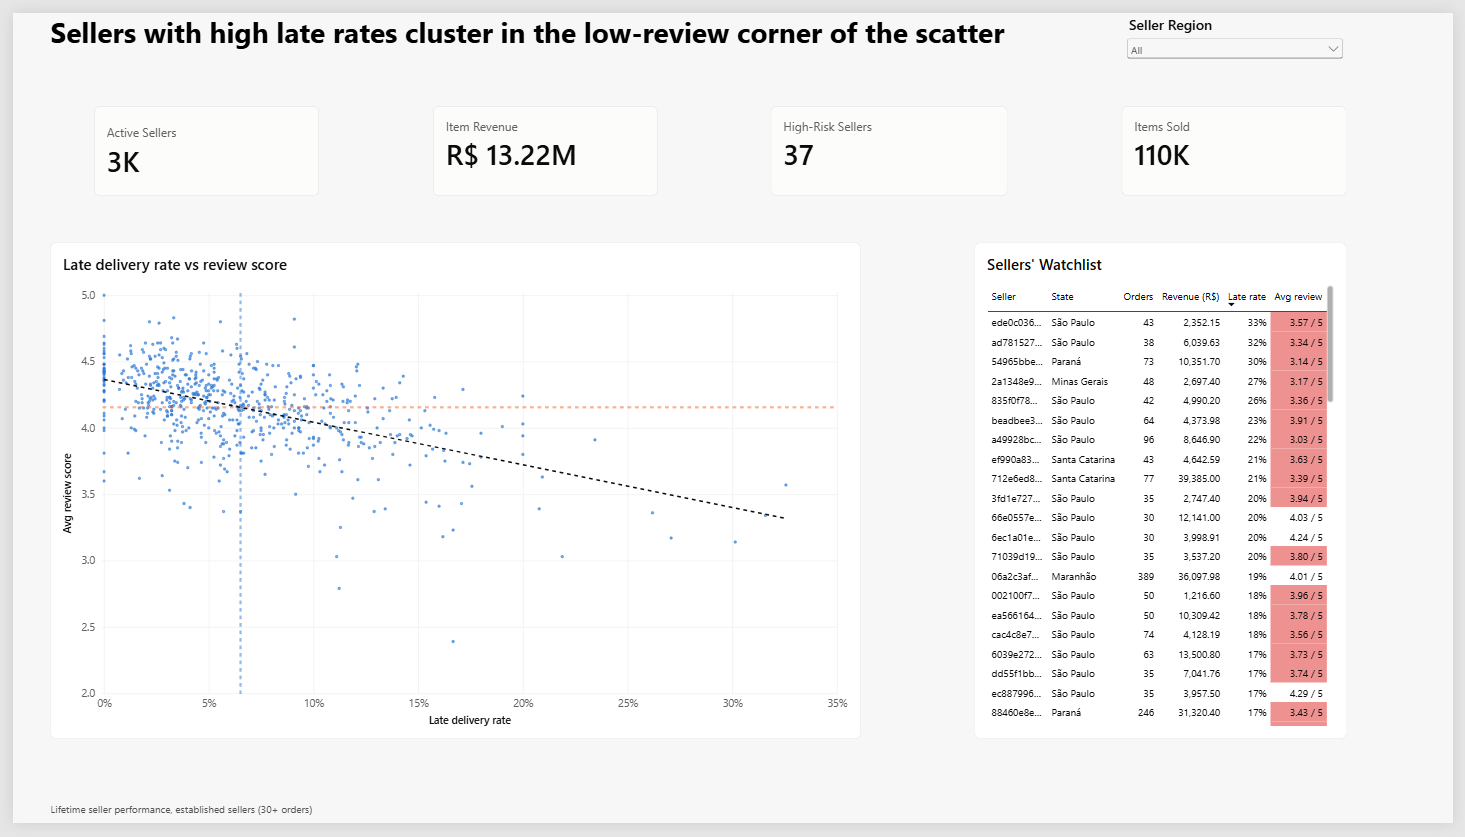

The page's visual inventory and layout, read from the dashboard file:
{"tool":"powerbi","page":{"name":"Page 4","canvas":[1920,1080],"ordinal":3},"visuals":[{"type":"slicer","fields":{"Values":["dim_sellers.seller_region"]},"box":[1480,2,298,66],"z":0},{"type":"textbox","box":[50,0,1382,66],"z":1000},{"type":"cardVisual","fields":{"Data":["Measures (2).Active Sellers"]},"box":[108,124,300,120],"z":2000},{"type":"cardVisual","fields":{"Data":["Measures (2).Item Revenue"]},"box":[559.3,124,300,120],"z":3000},{"type":"cardVisual","fields":{"Data":["Measures (2).Items Sold"]},"box":[1478,124,300,120],"z":4000},{"type":"scatterChart","title":"Late delivery rate vs review score","fields":{"Category":["dim_sellers.seller_id"],"X":["Avg(dim_sellers.late_delivery_rate)"],"Y":["Avg(dim_sellers.avg_review_score)"]},"box":[50,306,1080,662],"z":5000},{"type":"tableEx","title":"Sellers'' Watchlist","fields":{"Values":["dim_sellers.Seller","dim_sellers.seller_state_name","Avg(dim_sellers.order_count)","Avg(dim_sellers.revenue)","Avg(dim_sellers.late_delivery_rate)","Avg(dim_sellers.avg_review_score)"]},"box":[1282,306,496,662],"z":6000},{"type":"textbox","box":[50,1052,416,28],"z":7000},{"type":"cardVisual","fields":{"Data":["Measures (2).High-Risk Sellers"]},"box":[1010.7,124,316,120],"z":8000}]}

Visuals, with their boxes in screenshot pixels (x1, y1, x2, y2), scaled from the page's 1920x1080 canvas onto the 1465x837 screenshot:
slicer - dim_sellers.seller_region: <box>1129,2,1357,53</box>
textbox: <box>38,0,1093,51</box>
cardVisual - Measures (2).Active Sellers: <box>82,96,311,189</box>
cardVisual - Measures (2).Item Revenue: <box>427,96,656,189</box>
cardVisual - Measures (2).Items Sold: <box>1128,96,1357,189</box>
"Late delivery rate vs review score" scatterChart: <box>38,237,862,750</box>
"Sellers'' Watchlist" tableEx: <box>978,237,1357,750</box>
textbox: <box>38,815,356,836</box>
cardVisual - Measures (2).High-Risk Sellers: <box>771,96,1012,189</box>
